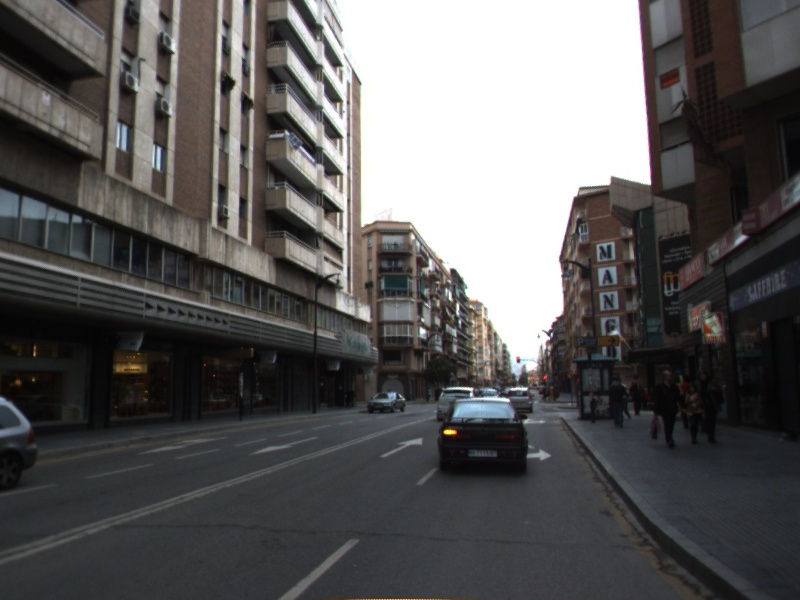STRAIGHT: (377, 436, 424, 459)
